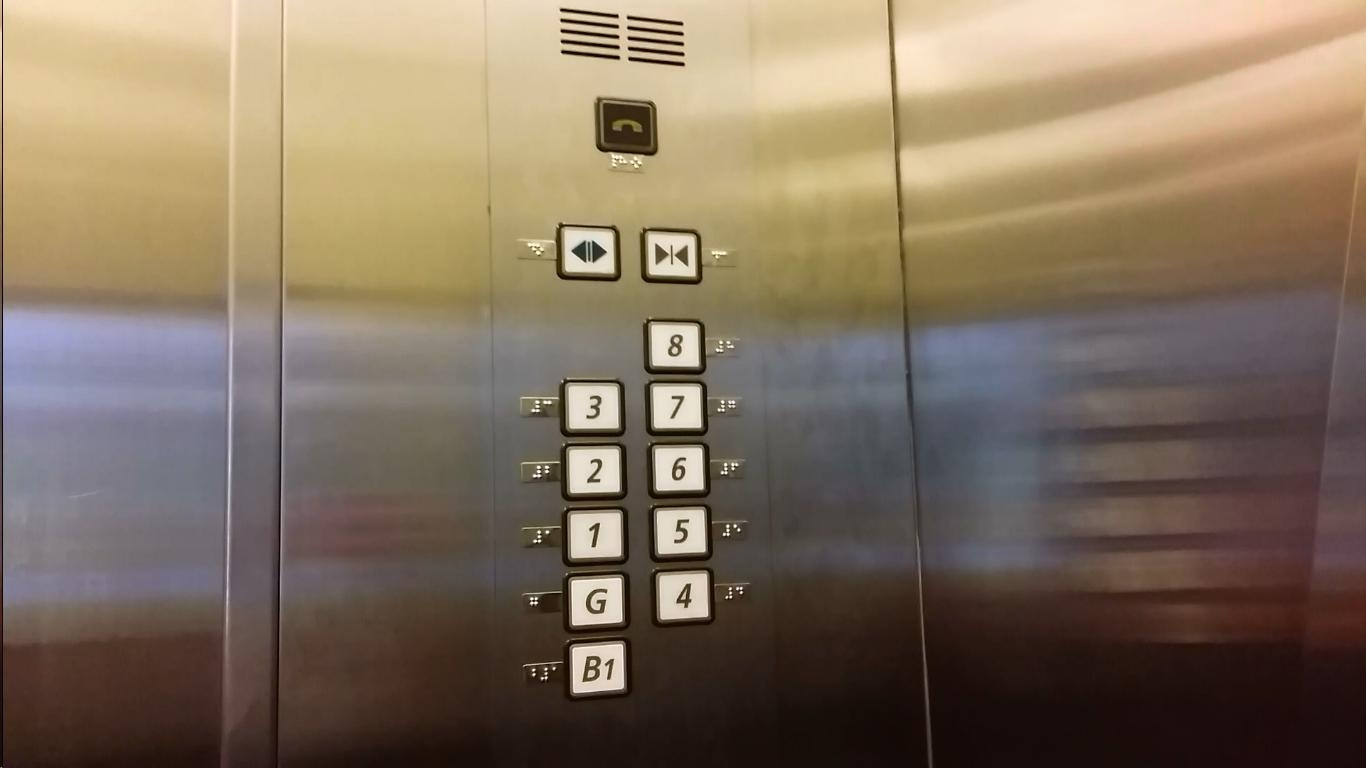1: (558, 502, 631, 570)
2: (558, 437, 630, 503)
3: (557, 374, 627, 440)
4: (647, 562, 716, 630)
5: (645, 500, 712, 564)
6: (643, 437, 710, 501)
7: (641, 377, 709, 439)
8: (640, 314, 709, 377)
B1: (560, 634, 633, 703)
G: (561, 566, 632, 635)
call: (590, 91, 662, 159)
close: (636, 222, 706, 288)
open: (553, 218, 624, 286)
